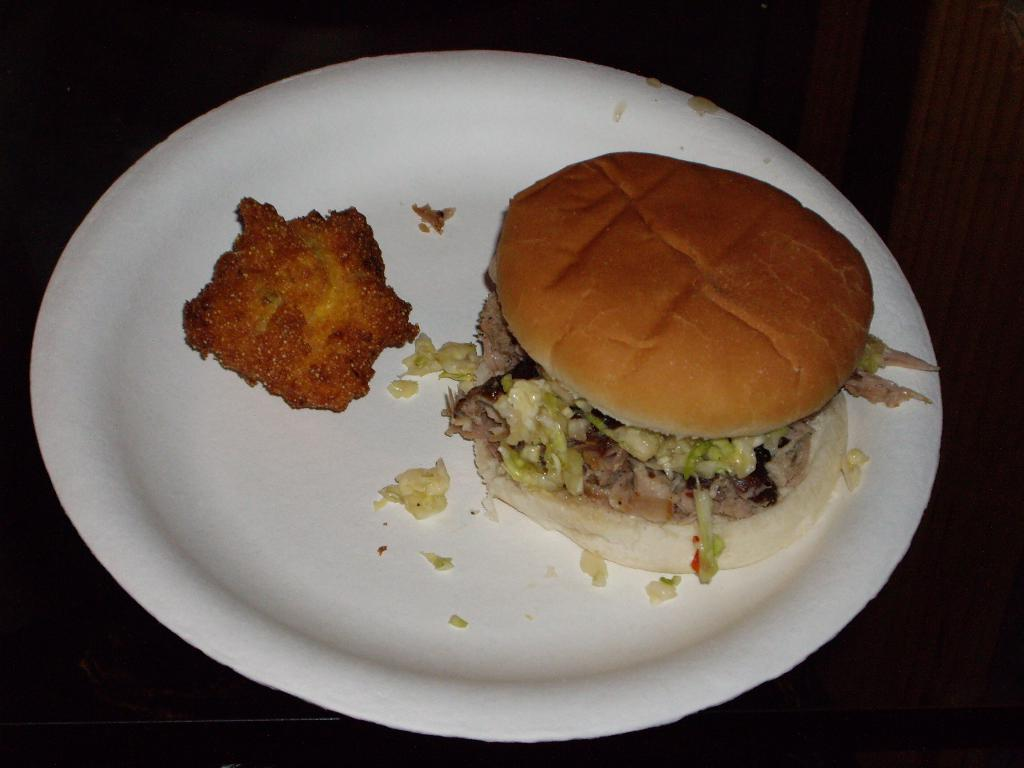Hamburger: (440, 151, 941, 581)
